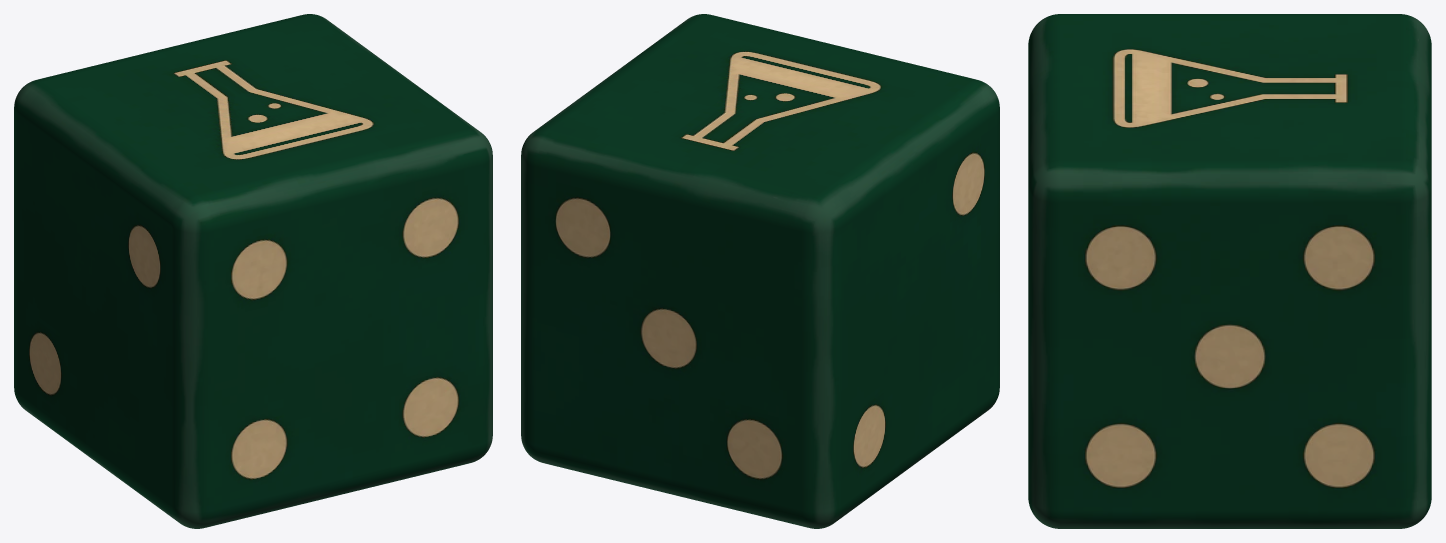
Rendered from dice_6.gltf.
3 views of the same model, side by side, from view 1: azimuth 30°, elevation 25°; view 2: azimuth 150°, elevation 25°; view 3: azimuth 270°, elevation 25° (orthographic). The views are drawn at different scales.
Visible parts, largest first — view 1: dice_6; view 2: dice_6; view 3: dice_6.
Part boxes in pixels (x1,y1,x2,y2): dice_6: (14, 14, 492, 528); dice_6: (521, 14, 999, 528); dice_6: (1028, 14, 1431, 528).
Bounding box in the file's own units: 104 × 104 × 104.
1 material, 1 textured.
